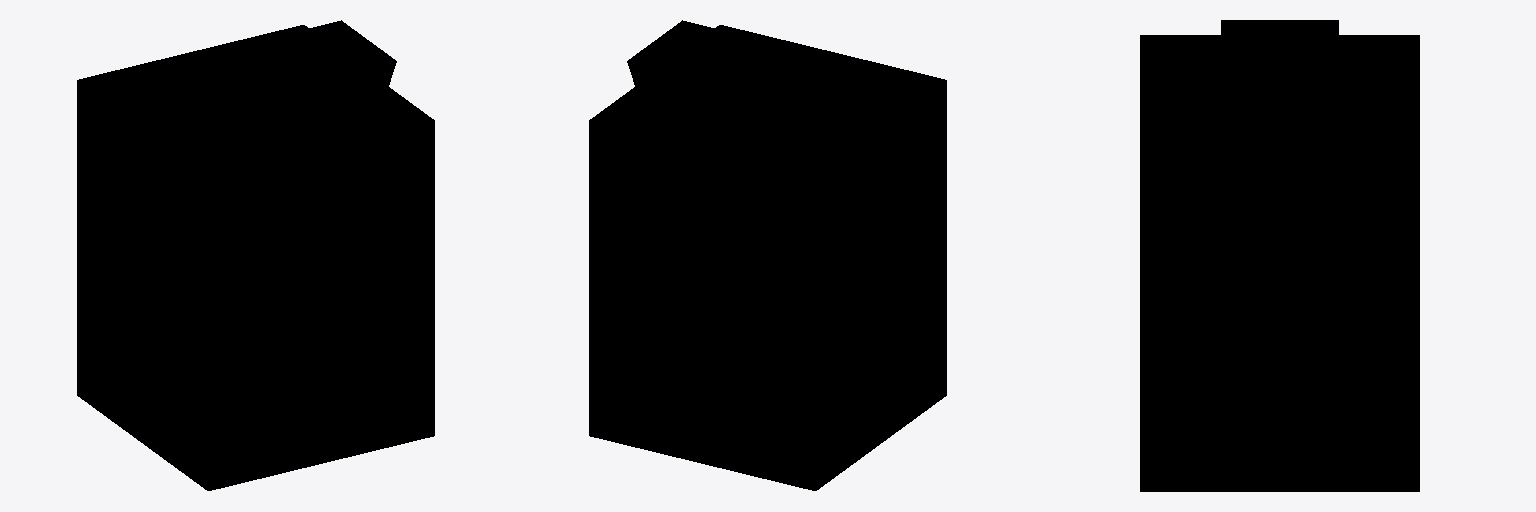
The robot description file, URDF, robot "cube.urdf":
<?xml version="1.0" ?>
<robot name="cube.urdf">
    <link name="legobrick">
        <contact>
            <lateral_friction value="1.0"/>
            <rolling_friction value="0.0"/>
            <contact_cfm value="0.0"/>
            <contact_erp value="1.0"/>
        </contact>
        <inertial>
            <origin rpy="0 0 0" xyz="0.0 0.0 0.0"/>
            <mass value="0.1"/>
            <inertia ixx="1" ixy="0" ixz="0" iyy="1" iyz="0" izz="1"/>
        </inertial>
        <visual>
            <origin rpy="1.570796 0 0" xyz="-0.001152925257731959 0.014222730670103094 -0.006989078608247398"/>
            <geometry>
                <mesh filename="Dovetail_Lower.obj" scale="0.001 0.001 0.001"/>
            </geometry>
            <material name="yellow">
                <color rgba="0 0 0 1"/>
            </material>
        </visual>
        <collision>
            <origin rpy="1.570796 0 0" xyz="-0.001152925257731959 0.014222730670103094 -0.006989078608247398"/>
            <geometry>
                <mesh filename="Dovetail_Lower.obj" scale="0.001 0.001 0.001"/>
            </geometry>
        </collision>
    </link>
</robot>

--- What the picture shows (computed from the rendered views, not written in the file) ---
3 views of the same robot in one strip: view 1: azimuth 30°, elevation 25°; view 2: azimuth 150°, elevation 25°; view 3: azimuth 270°, elevation 25° (orthographic).
Model cube.urdf with 1 links and 0 joints (none), rooted at legobrick, posed every joint at zero.
Visible links, largest first — view 1: legobrick; view 2: legobrick; view 3: legobrick.
Link boxes in pixels (x1,y1,x2,y2): legobrick: (77, 20, 434, 490); legobrick: (589, 20, 946, 490); legobrick: (1140, 20, 1419, 491).
Size in the robot's own frame: 0.03 by 0.03 by 0.044 metres.
Meshes: 1 distinct files referenced, 1 mesh visuals loaded (1 OBJ).
